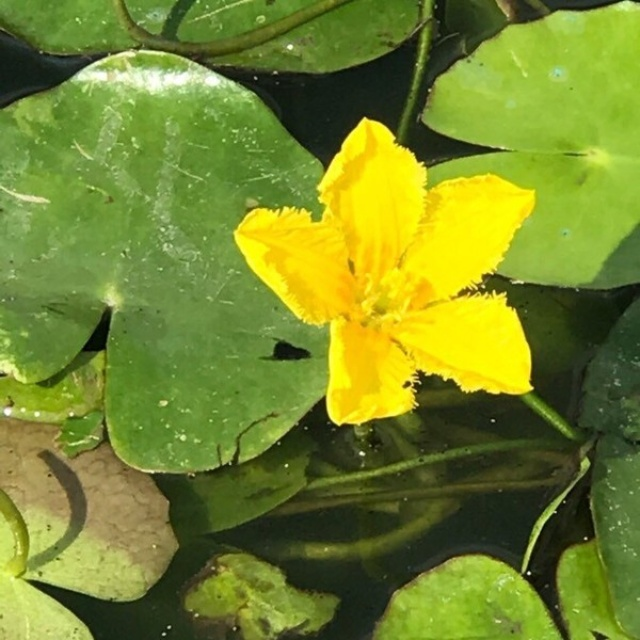obstacle: (32, 47, 574, 469)
